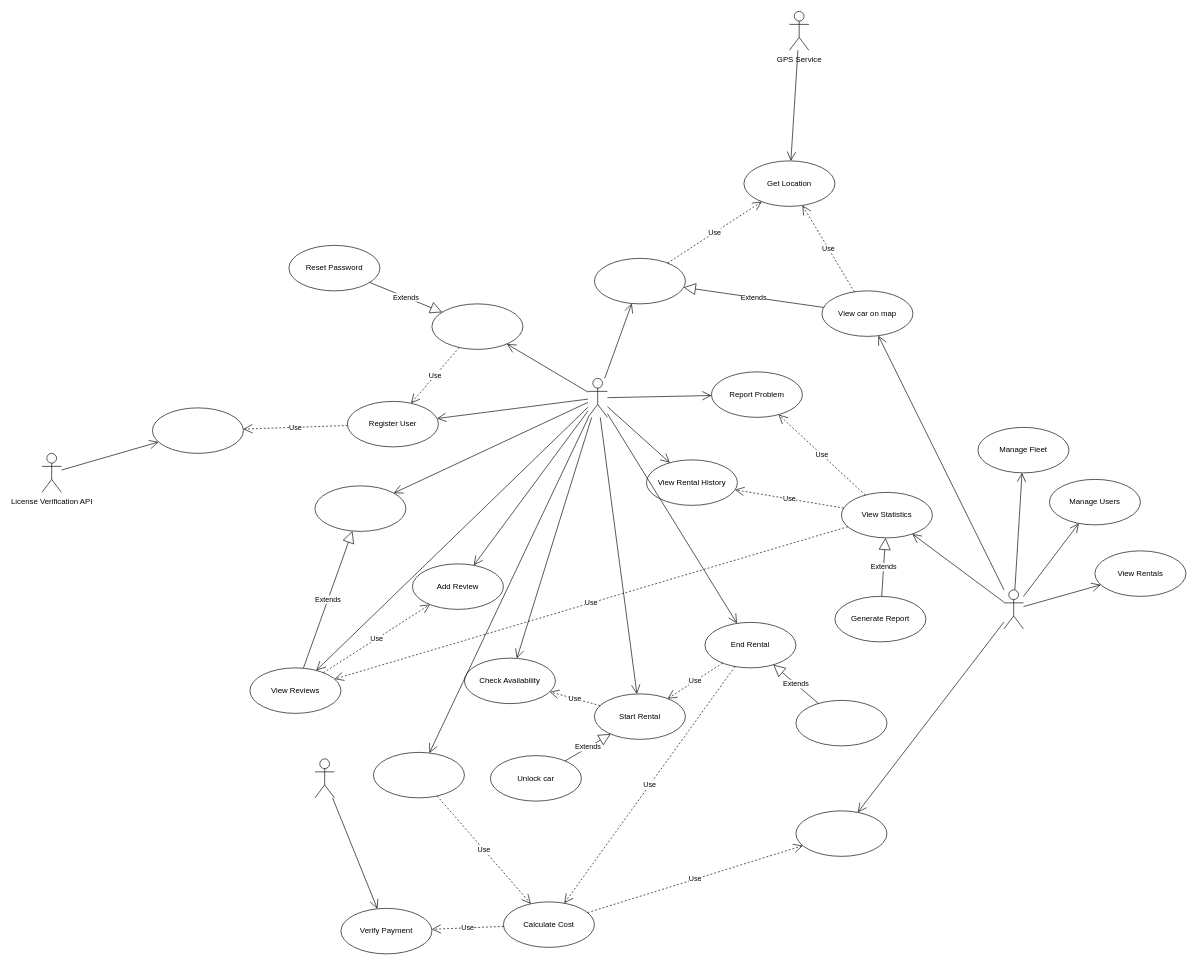
Image size: 1197x965. Some labels were removed from this diagram. Each missing label, with the centre of its shape:
Admin: pixel 1013 609
Lock car: pixel 841 723
Login: pixel 477 326
Pay for car: pixel 418 775
Payment Service: pixel 324 778
Search Car: pixel 639 281
Set Pricing: pixel 841 833
User: pixel 597 397
Verify License: pixel 197 430
View Car Details: pixel 360 508
